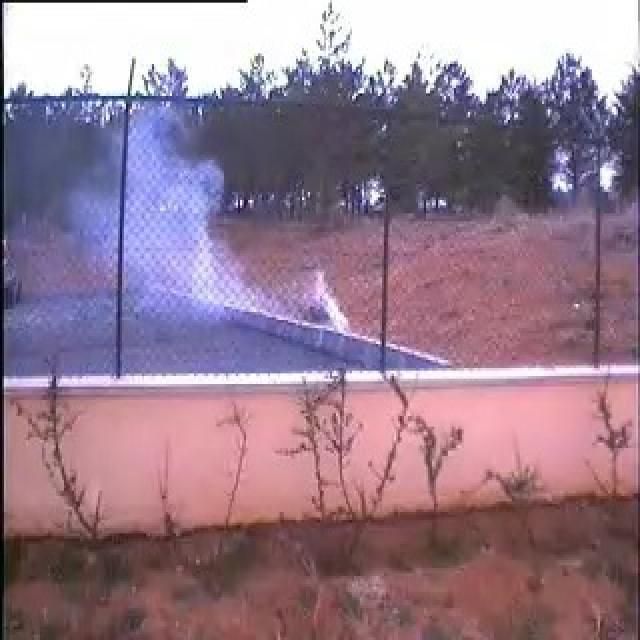Smoke: (124, 123, 344, 357)
